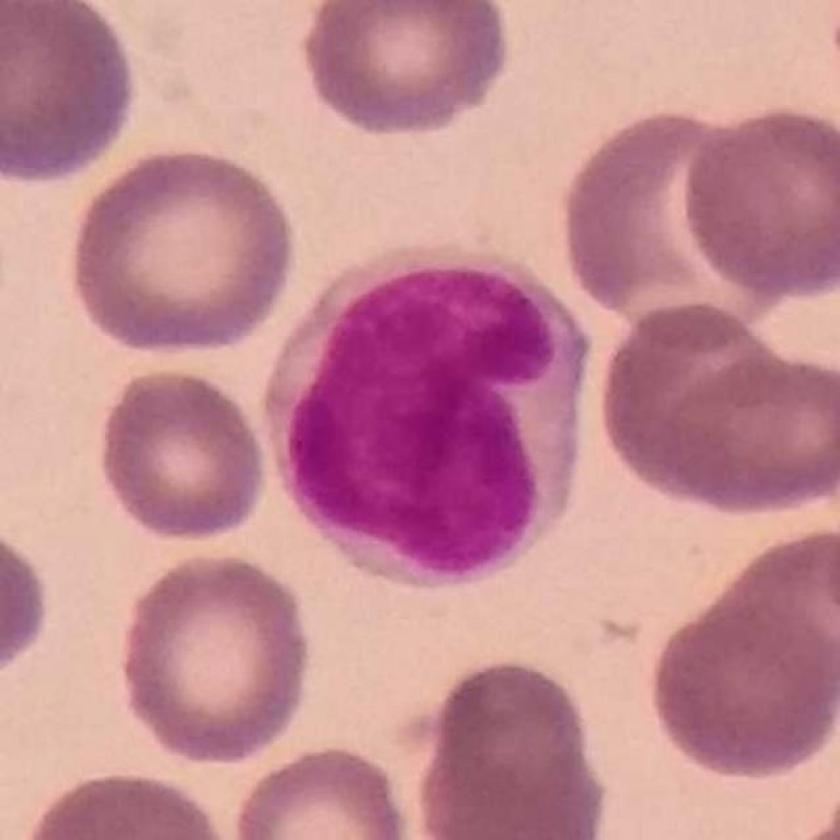monocyte: (256, 233, 605, 606)
